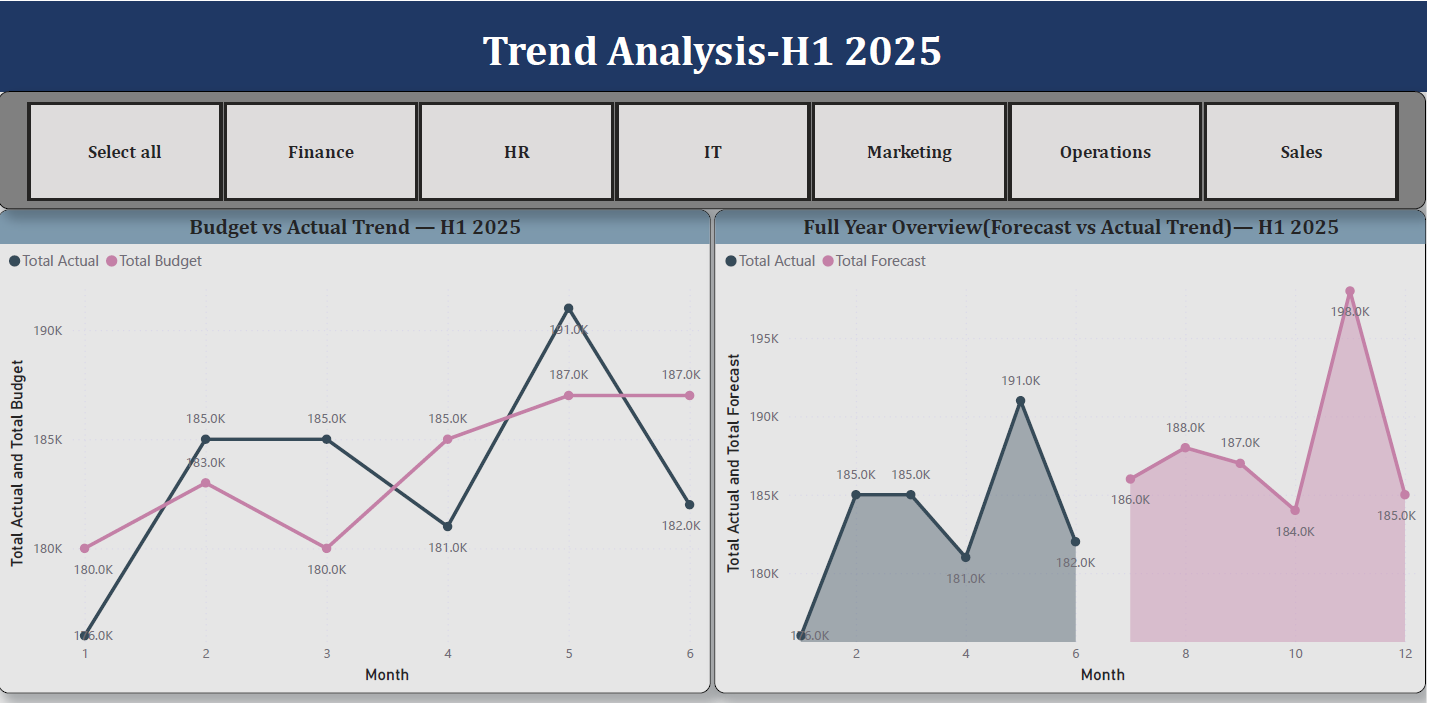

The dashboard page shown, as its layout file describes it:
{"tool":"powerbi","page":{"name":"Trend Analysis","canvas":[1280,720],"ordinal":2},"visuals":[{"type":"textbox","box":[0,0,1280,79.6],"z":0},{"type":"lineChart","title":"Budget vs Actual Trend — H1 2025","fields":{"Y":["Budget.Total Actual","Budget.Total Budget"],"Category":["Months.Month Order"]},"box":[0,185.8,639.4,434.3],"z":1000},{"type":"lineChart","title":"Full Year Overview(Forecast vs Actual Trend)— H1 2025","fields":{"Category":["Months.Month Order"],"Y":["Budget.Total Actual","Budget.Total Forecast"]},"box":[641.8,185.8,638.2,434.3],"z":2000},{"type":"slicer","fields":{"Values":["Departments.Department"]},"box":[0,79.6,1280,106.2],"z":3000}]}

Visuals, with their boxes on the page's 1280x720 design canvas (x1, y1, x2, y2). These are canvas units, not pixel positions in the 1430x703 screenshot, which may show the page scaled, cropped or inside an application window:
textbox: l=0, t=0, r=1280, b=80
"Budget vs Actual Trend — H1 2025" lineChart: l=0, t=186, r=639, b=620
"Full Year Overview(Forecast vs Actual Trend)— H1 2025" lineChart: l=642, t=186, r=1280, b=620
slicer - Departments.Department: l=0, t=80, r=1280, b=186
